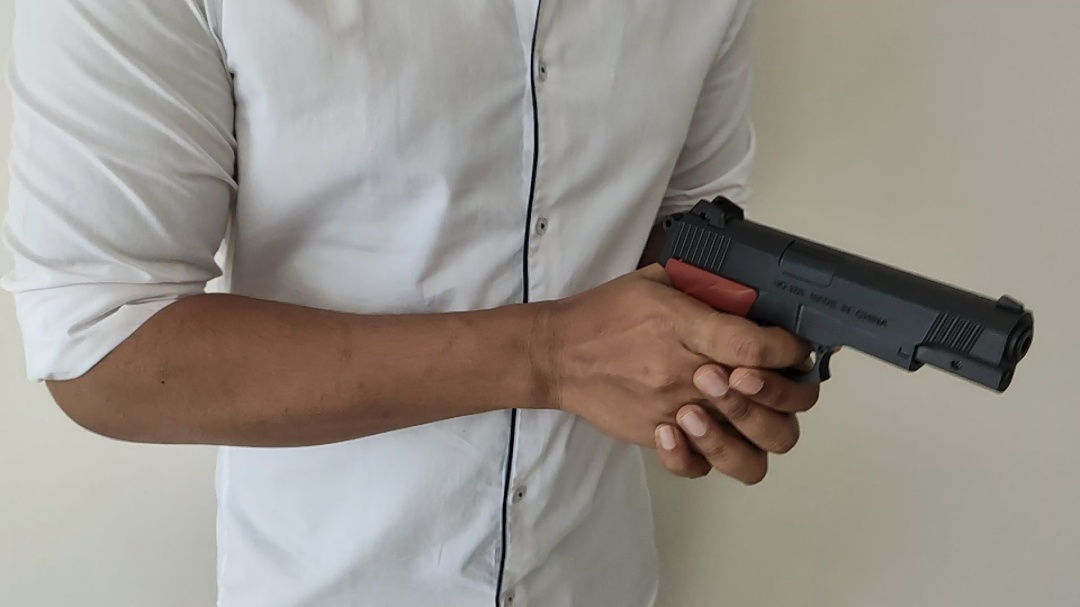gun: (657, 195, 1035, 394)
